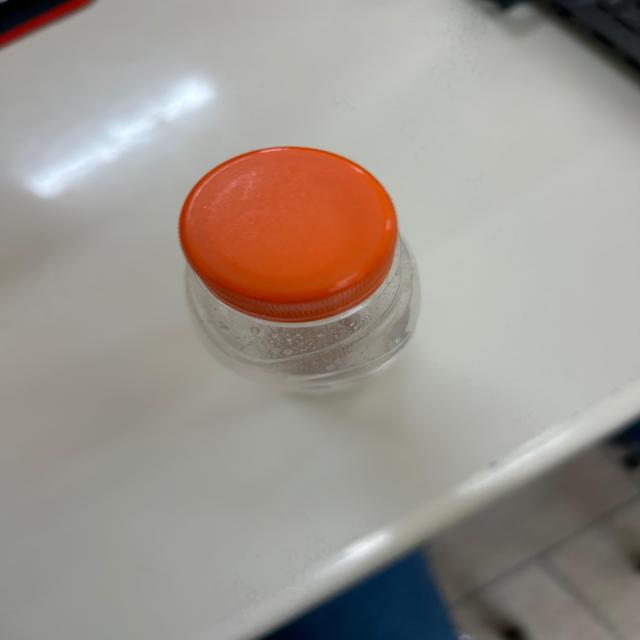inorganic: (180, 145, 424, 400)
